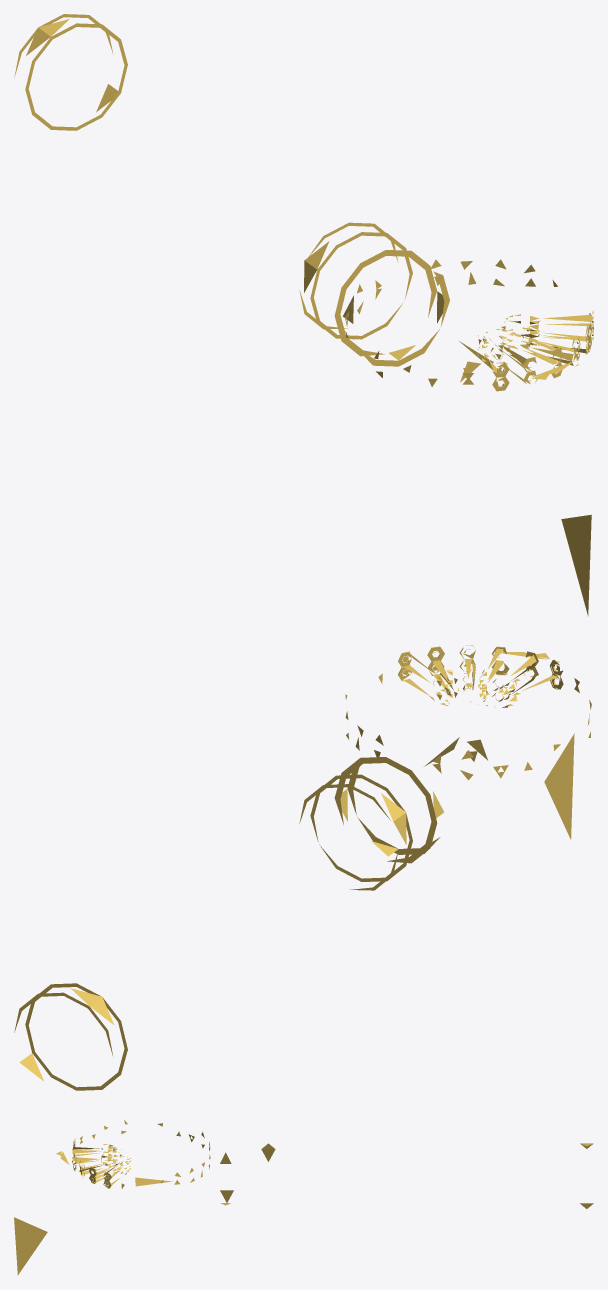
File: charm_mst_lmg_4.glb
3 renders of one model, top to bottom at view 1: azimuth 30°, elevation 25°; view 2: azimuth 150°, elevation 25°; view 3: azimuth 270°, elevation 25°, orthographic. The views are drawn at different scales.
Parts seen in each view (by area): view 1: p0_paint; view 2: p0_paint; view 3: p0_paint.
Part boxes in pixels (x1,y1,x2,y2): p0_paint: (14, 14, 593, 616); p0_paint: (14, 645, 591, 1090); p0_paint: (14, 1120, 593, 1275).
Bounding box in the file's own units: 0.1807 × 0.185 × 0.7655.
